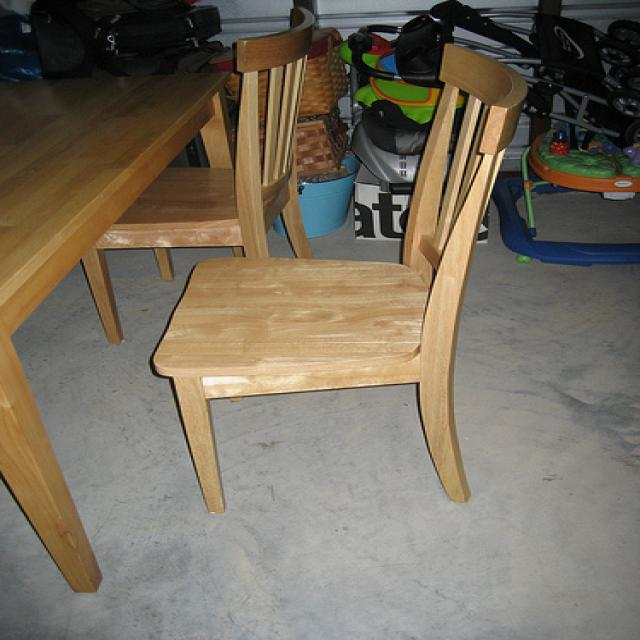chair: (151, 43, 527, 513)
table: (0, 53, 234, 607)
